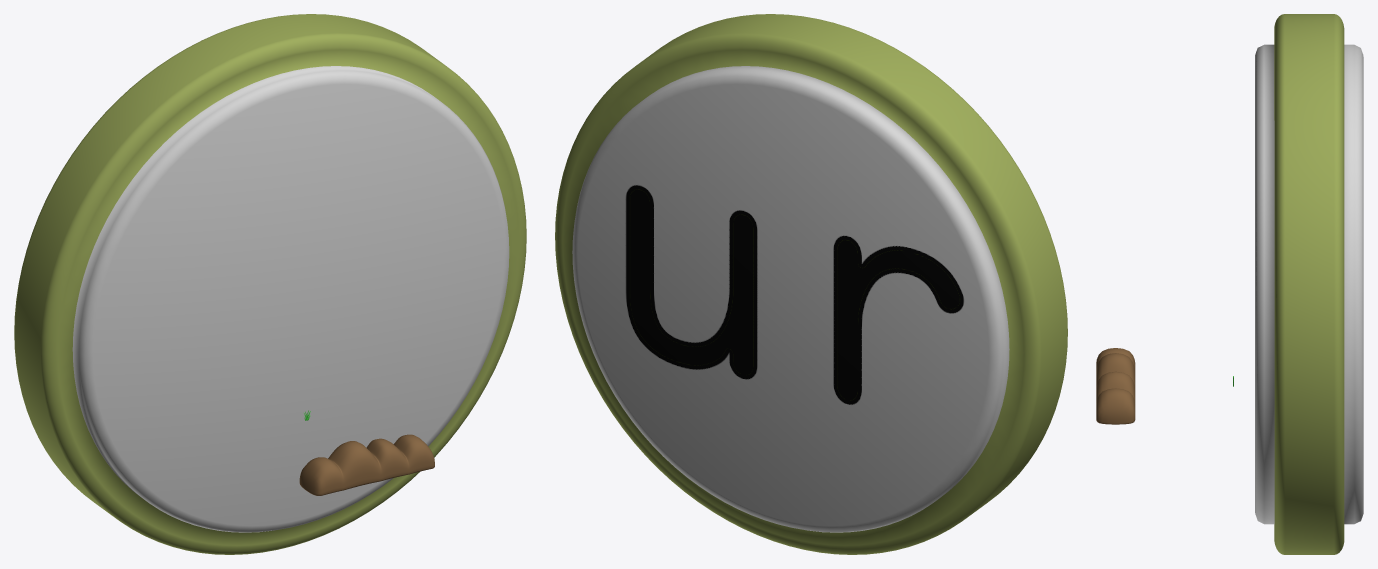
Rendered from turf.gltf.
The picture shows the model from 3 angles, left to right: view 1: azimuth 30°, elevation 25°; view 2: azimuth 150°, elevation 25°; view 3: azimuth 270°, elevation 25°; orthographic projection. The views are drawn at different scales.
Visible parts, largest first — view 1: coin, Cube; view 2: coin; view 3: coin, Cube.
Part boxes in pixels (x1,y1,x2,y2): coin: [14, 14, 526, 554]; Cube: [299, 434, 434, 495]; coin: [555, 14, 1067, 554]; coin: [1255, 14, 1363, 554]; Cube: [1096, 348, 1135, 424].
Bounding box in the file's own units: 2.56 × 2.56 × 1.26.
Materials: 5 (1 with a texture image).
